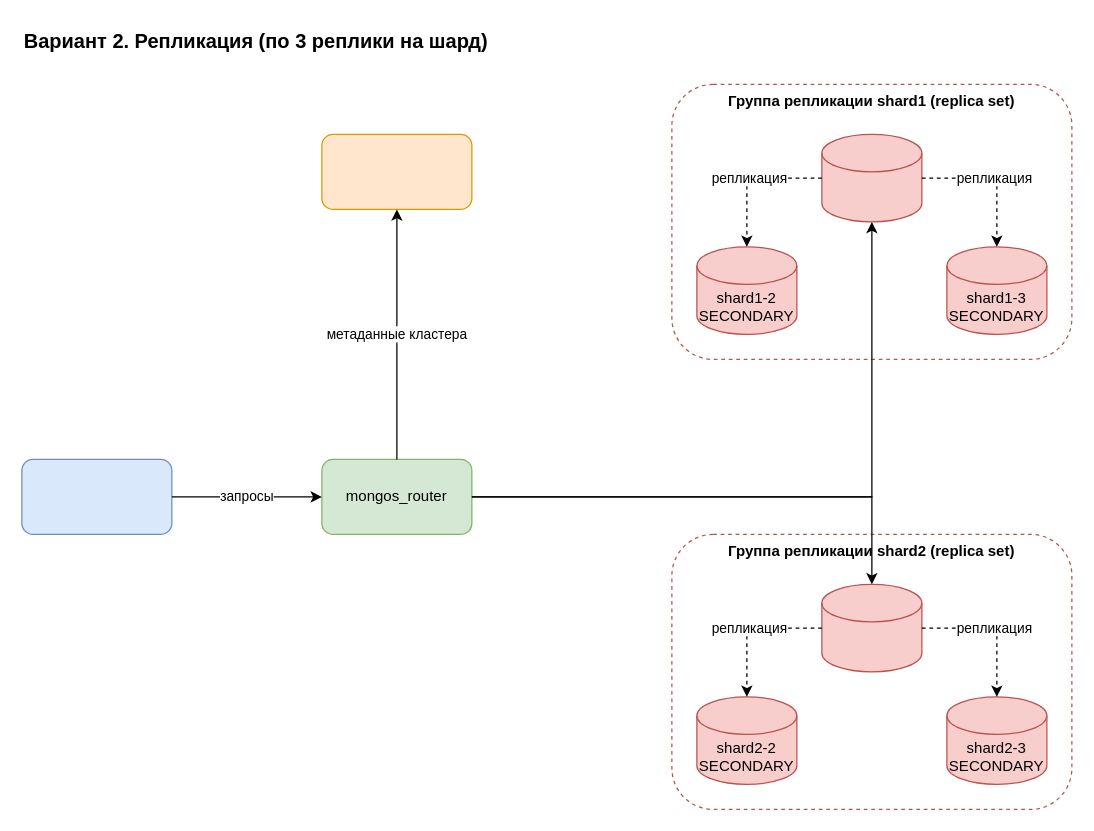
This 1094x831 diagram has some shape labels left out. Each missing label, with the centre of its shape:
"configSrv" goes at (x=396, y=171).
"pymongo-api" goes at (x=96, y=496).
"shard1-1 PRIMARY" goes at (x=871, y=177).
"shard2-1 PRIMARY" goes at (x=871, y=627).
